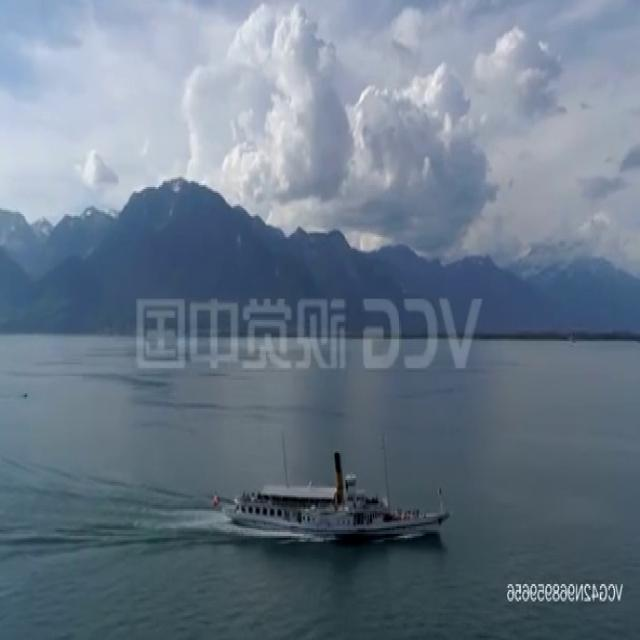passenger ship: (221, 446, 448, 550)
